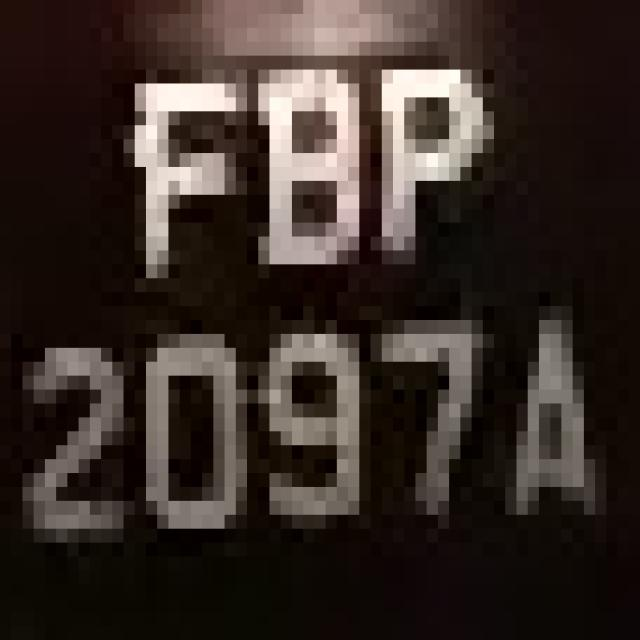0: (112, 306, 258, 598)
2: (0, 320, 124, 584)
7: (370, 278, 483, 570)
9: (247, 306, 404, 557)
A: (472, 278, 618, 543)
B: (236, 56, 370, 292)
F: (112, 42, 236, 306)
P: (359, 56, 494, 278)
